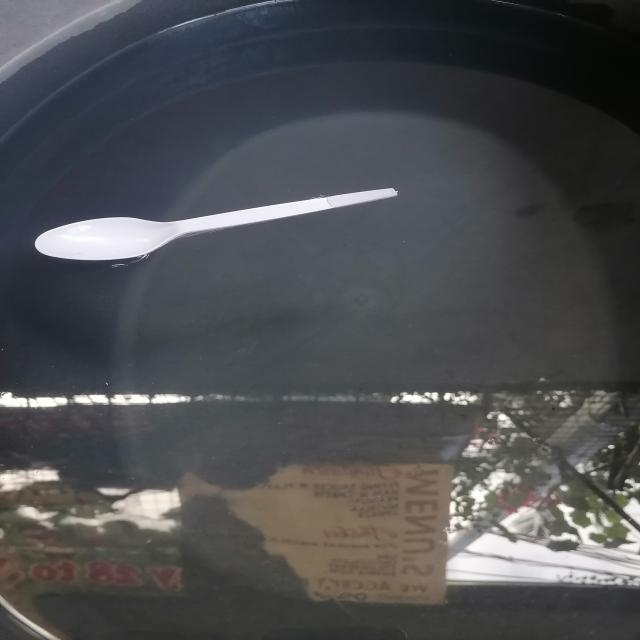Plastic Spoon: (26, 165, 412, 277)
